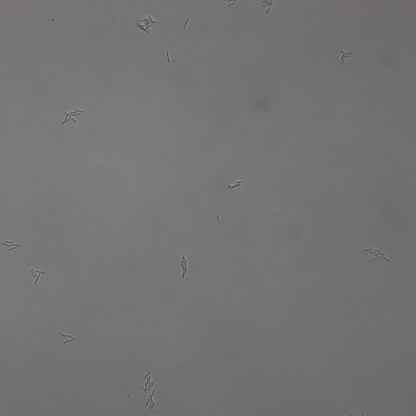R(colony): (364, 246, 389, 263), (64, 106, 85, 124), (137, 15, 158, 33), (178, 251, 191, 278), (30, 266, 45, 283), (145, 394, 158, 413), (143, 371, 154, 392), (1, 241, 22, 252), (339, 50, 354, 65), (61, 332, 76, 343), (227, 180, 242, 191), (261, 1, 273, 14)
